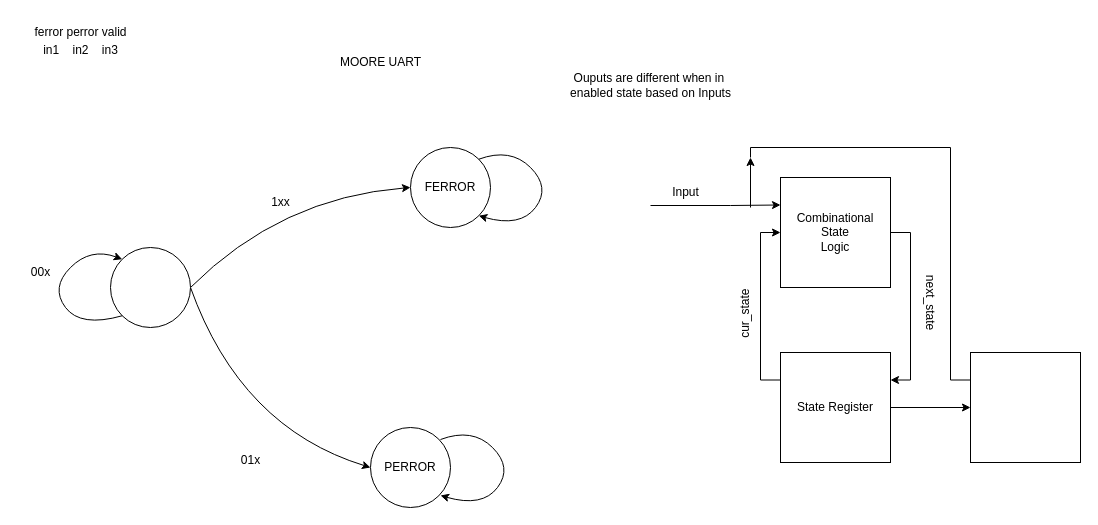
Some shapes in this 1098 by 525 pixel diagram are drawn without their labels. Here are the shapes that lost their labels. From the top down, the centre of each, then its label:
the point at 150,287: ENABLED
the point at 1025,407: Combinational Output Logic
